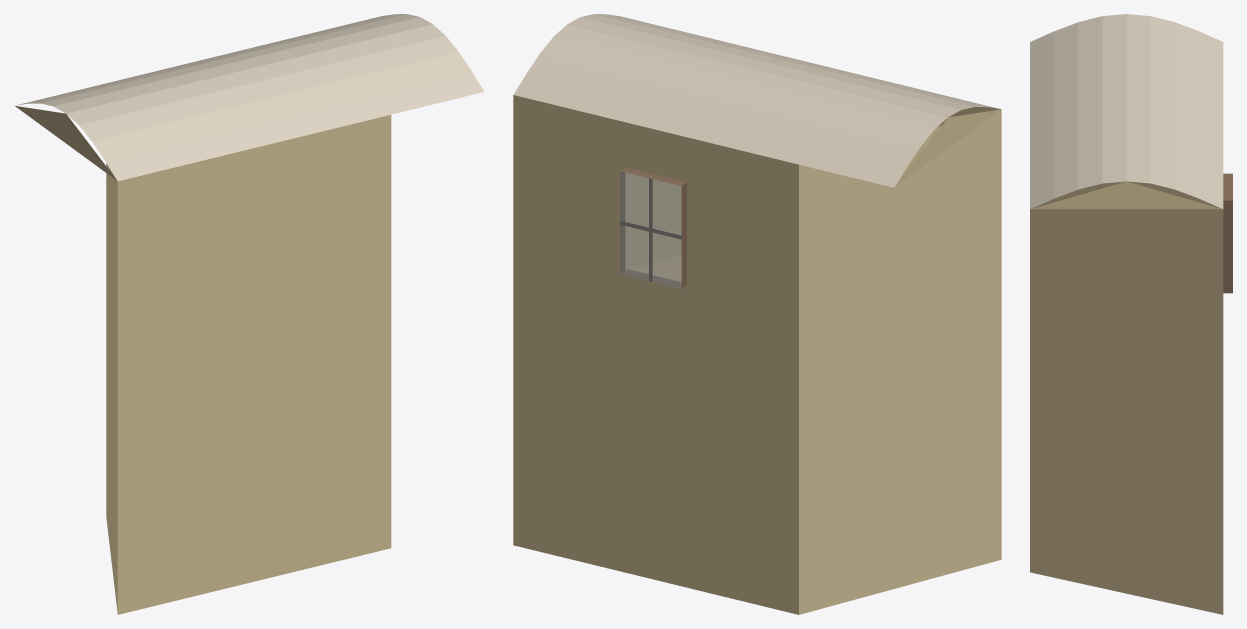
Rendered from N-40-42.middle_vault.glb.
3 renders of one model, left to right at view 1: azimuth 30°, elevation 25°; view 2: azimuth 150°, elevation 25°; view 3: azimuth 270°, elevation 25°, orthographic. The views are drawn at different scales.
Parts seen in each view (by area): view 1: N-40-42.middle_vault; view 2: N-40-42.middle_vault; view 3: N-40-42.middle_vault.
Part boxes in pixels (x1,y1,x2,y2): N-40-42.middle_vault: (15,14,484,614); N-40-42.middle_vault: (513,14,1001,614); N-40-42.middle_vault: (1030,14,1232,614).
Bounding box in the file's own units: 6.2 × 7.48 × 3.17.
